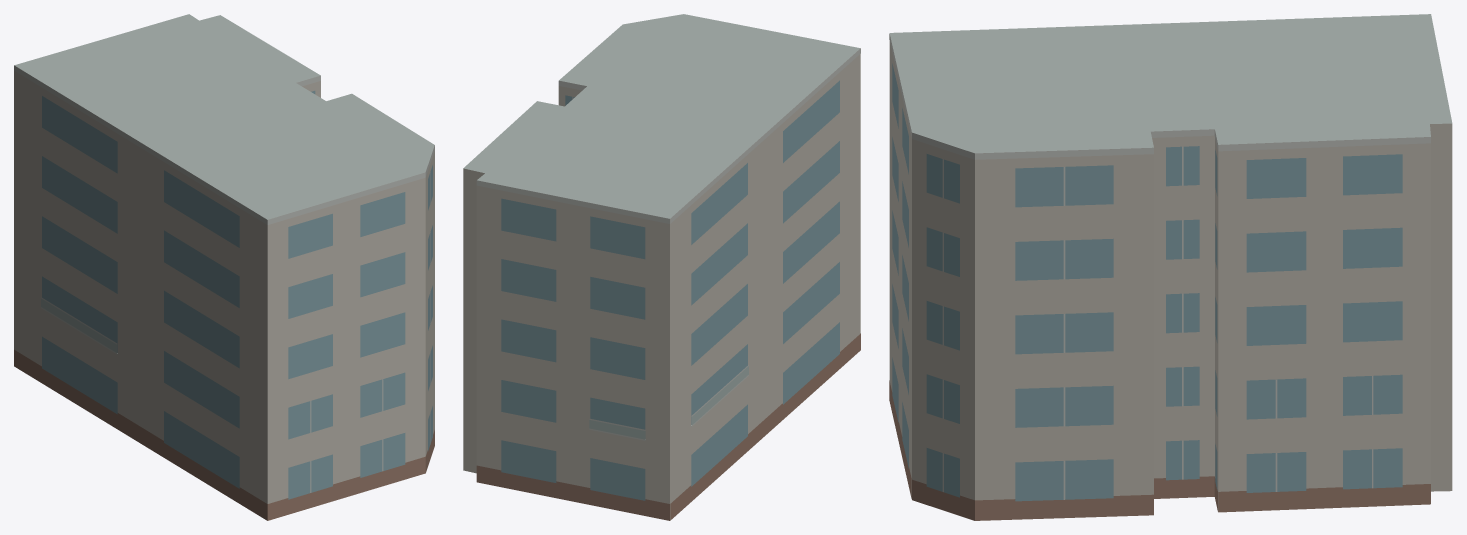
Rendered from survey-upis-32923460.glb.
3 views of the same model, side by side, from view 1: azimuth 30°, elevation 25°; view 2: azimuth 150°, elevation 25°; view 3: azimuth 270°, elevation 25° (orthographic). The views are drawn at different scales.
Parts seen in each view (by area): view 1: survey-upis-32923460.tmp; view 2: survey-upis-32923460.tmp; view 3: survey-upis-32923460.tmp.
Boxes of the visible parts, left/top/right/bottom form: survey-upis-32923460.tmp: left=14, top=14, right=434, bottom=520; survey-upis-32923460.tmp: left=463, top=14, right=860, bottom=520; survey-upis-32923460.tmp: left=889, top=14, right=1452, bottom=520.
Size of the model in its own units: 11.32 by 13.9 by 19.31.
